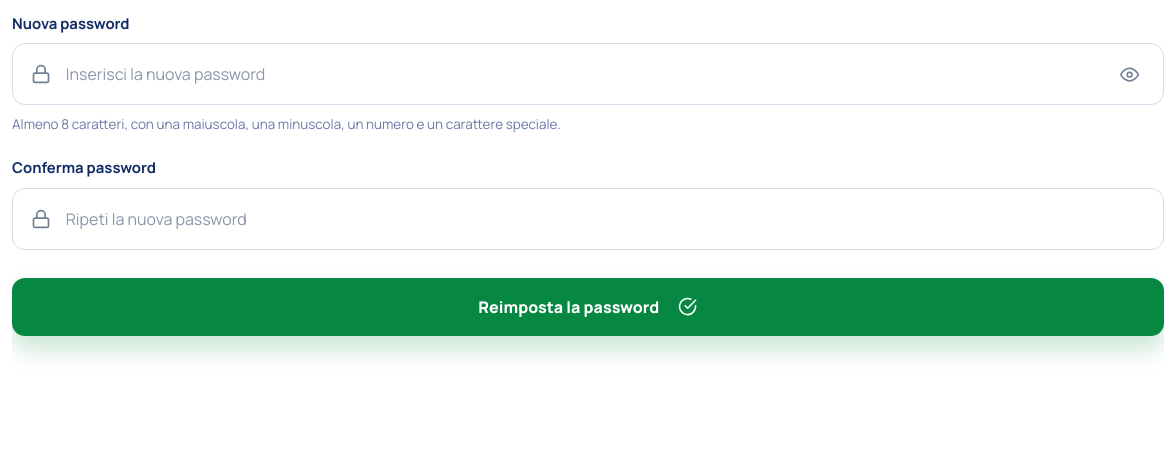
Test: ResetPasswordForm › validazione prima della rete › blocca le password non coincidenti senza chiamare il server
The width and height of the screenshot is (1176, 464).
Type "Password1!" into the password field labelled "Nuova password" at x=583, y=74, box [66,62,1100,86]
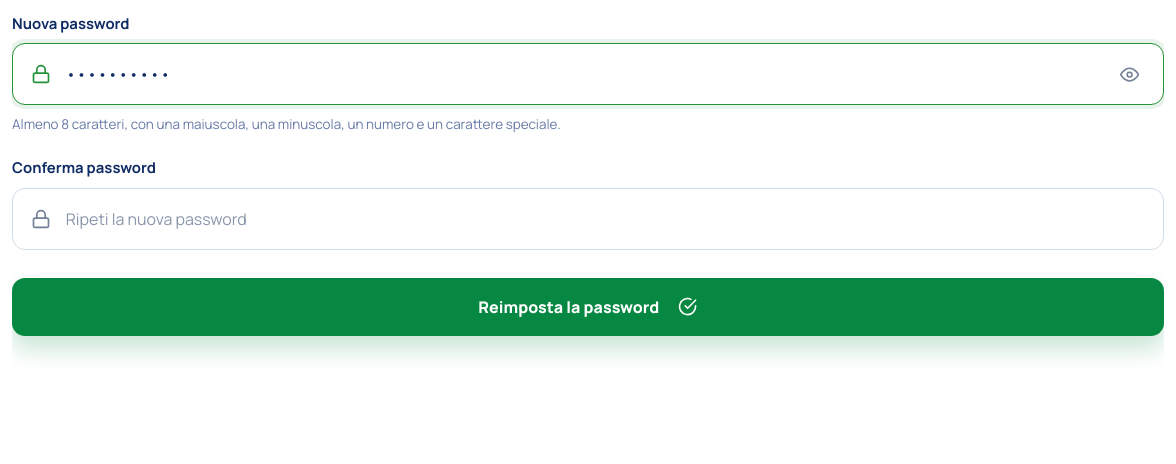
Type "Password2!" into the password field labelled "Conferma password" at x=605, y=219, box [66,207,1145,231]
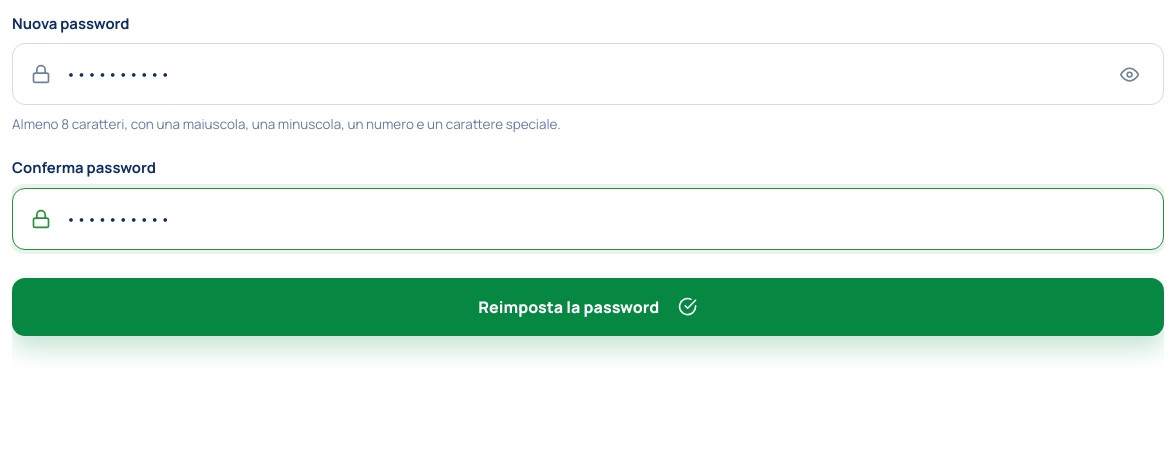
Click the button "Reimposta la password" at x=588, y=306, box [12,278,1164,336]
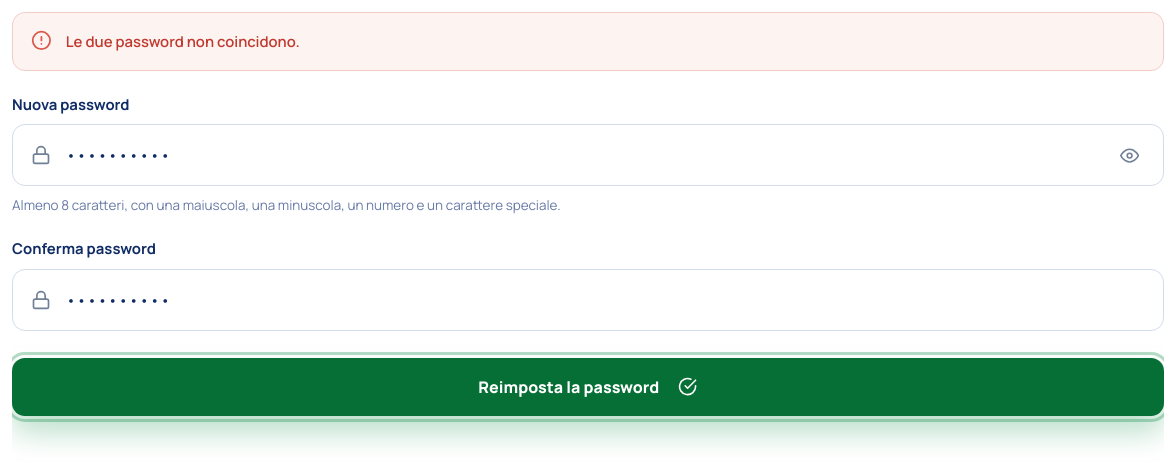
Result: the message reads "Le due password non coincidono." at [66,31,300,51]
